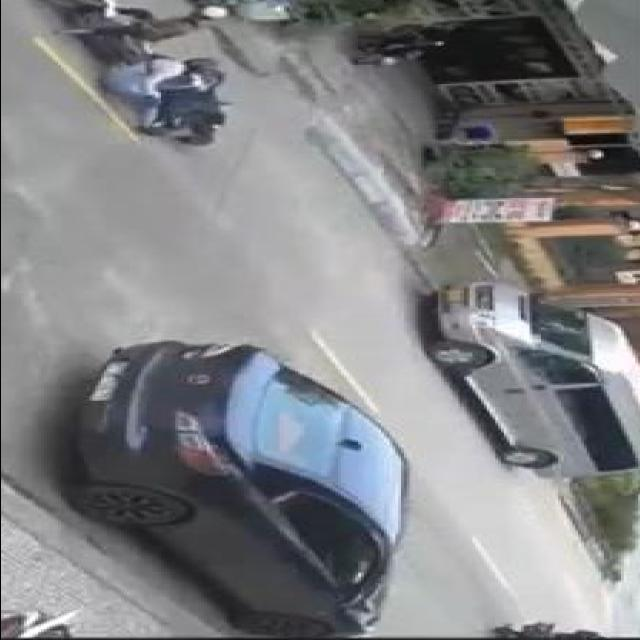accident: (18, 0, 286, 149)
